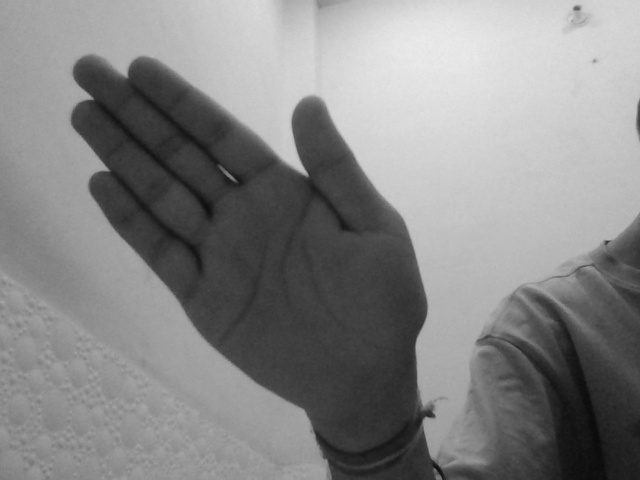Hello: (67, 47, 435, 426)
